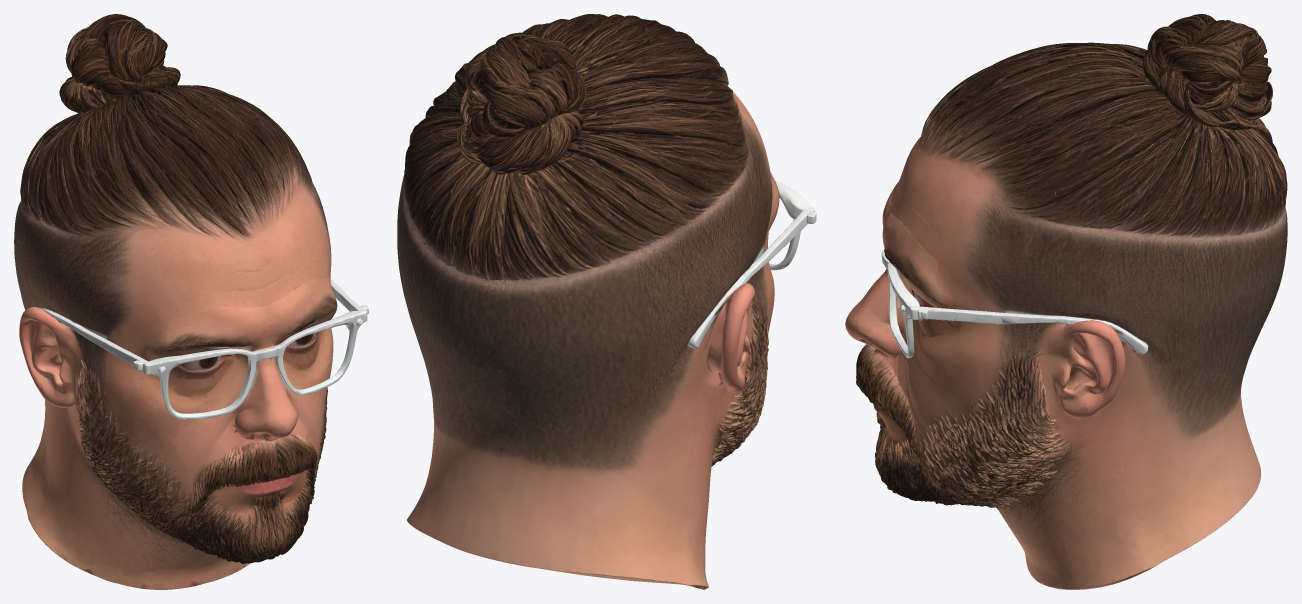
The picture shows the model from 3 angles, left to right: view 1: azimuth 30°, elevation 25°; view 2: azimuth 150°, elevation 25°; view 3: azimuth 270°, elevation 25°; orthographic projection. The views are drawn at different scales.
Size of the model in its own units: 1.2 by 2 by 1.47.
1 material, 1 textured.
